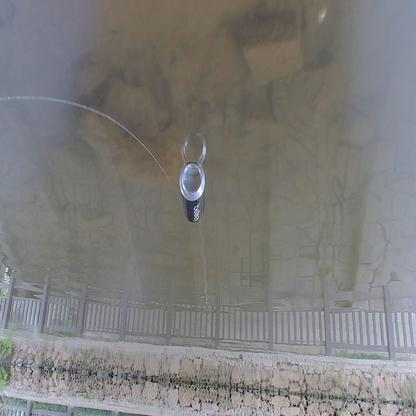can: (178, 163, 205, 224)
